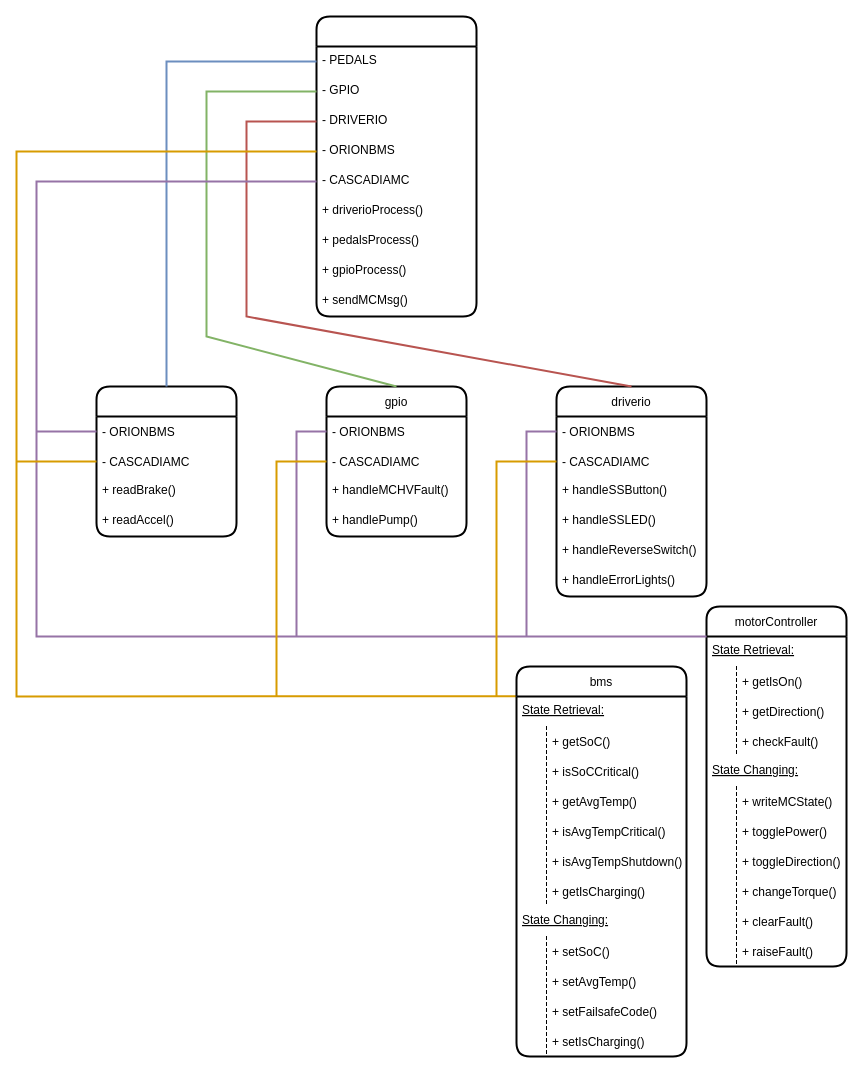
The diagram is 863 pixels wide and 1073 high, and some of its shapes have lost their labels. The shapes that lost their labels are listed below. From the top down, each one's box as (x1, y1, x2, y2) in pixels, then its label:
(315, 15, 477, 317): mpu
(95, 385, 237, 537): pedals
